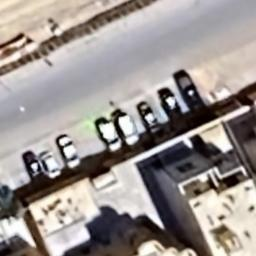sedan: (53, 132, 85, 170), (172, 74, 202, 112), (155, 85, 185, 121), (137, 100, 162, 136), (35, 148, 62, 180), (20, 150, 44, 182)
van: (92, 116, 124, 154), (113, 112, 141, 146)
